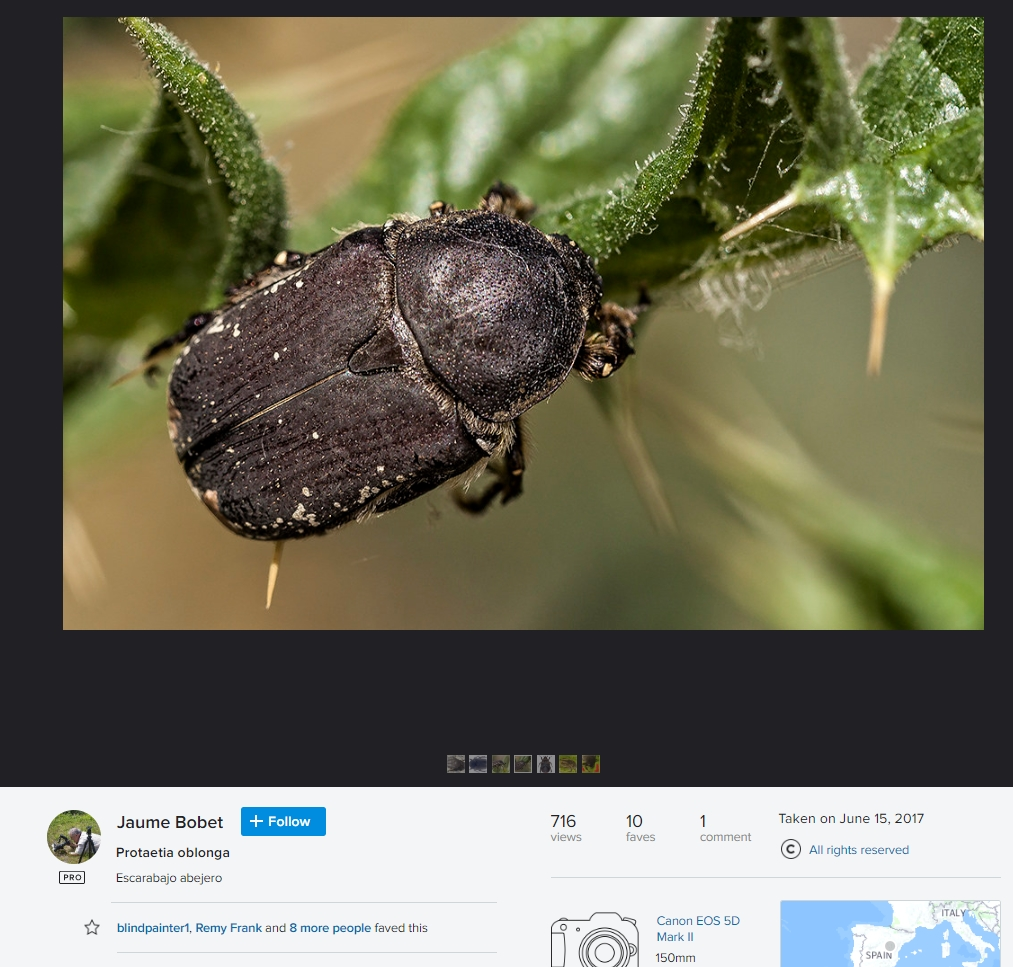Protaetia_oblonga: (144, 181, 630, 566)
